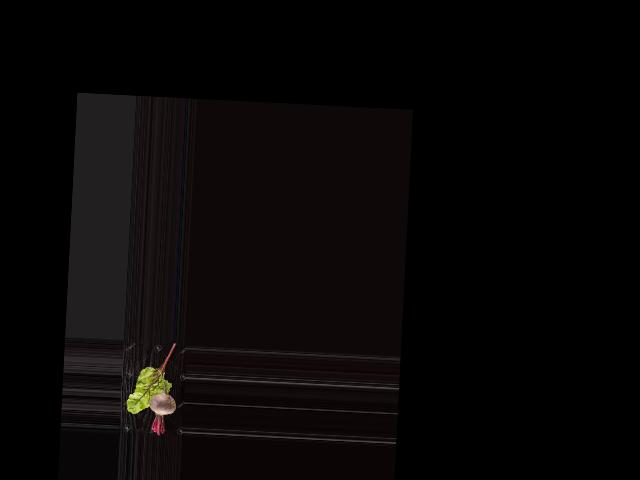beet: (148, 368, 178, 436)
